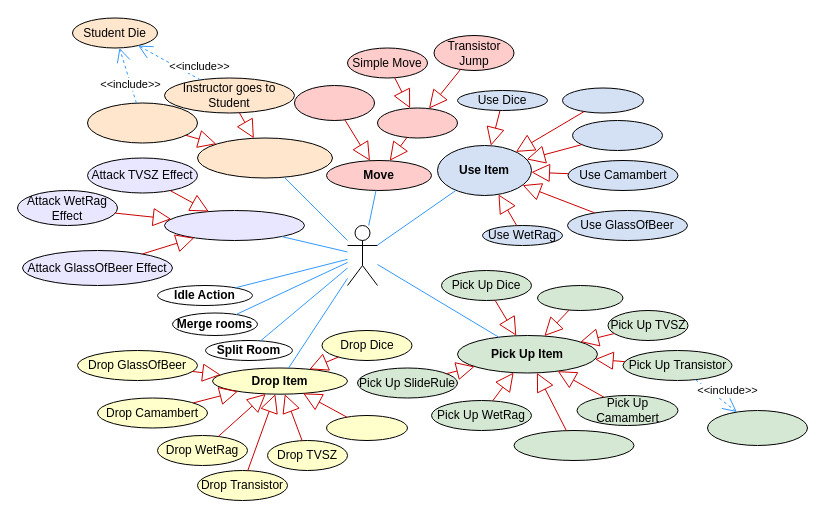
This 825x518 diagram has some shape labels left out. The box of each missing label's shape, as (x1, y1, x2, y2) in pixels:
Attack Item Effect: (164, 210, 304, 240)
Character Goes To Character: (196, 137, 332, 178)
Drop FFP2: (326, 414, 408, 440)
Instructor Move: (294, 84, 374, 120)
Pair Last Two Transistor: (706, 410, 808, 446)
Pick Up FFP2: (536, 284, 623, 310)
Pick Up GlassOfBeer: (513, 430, 634, 460)
Student Goes To Instructor: (86, 102, 198, 143)
Student Move: (376, 107, 458, 138)
Tester: (346, 224, 378, 286)
Use FFP2: (562, 87, 644, 113)
Use Transistor: (572, 120, 662, 150)
